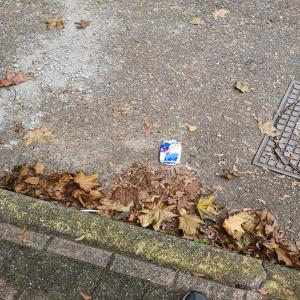Can: (157, 138, 184, 168)
